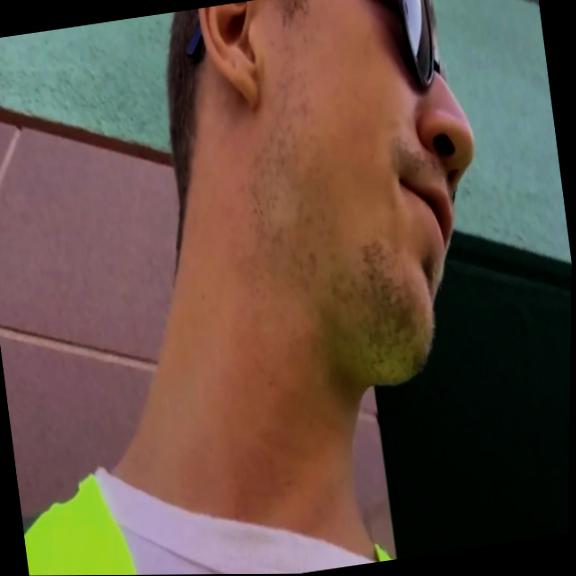safety_vest: (16, 424, 431, 576)
